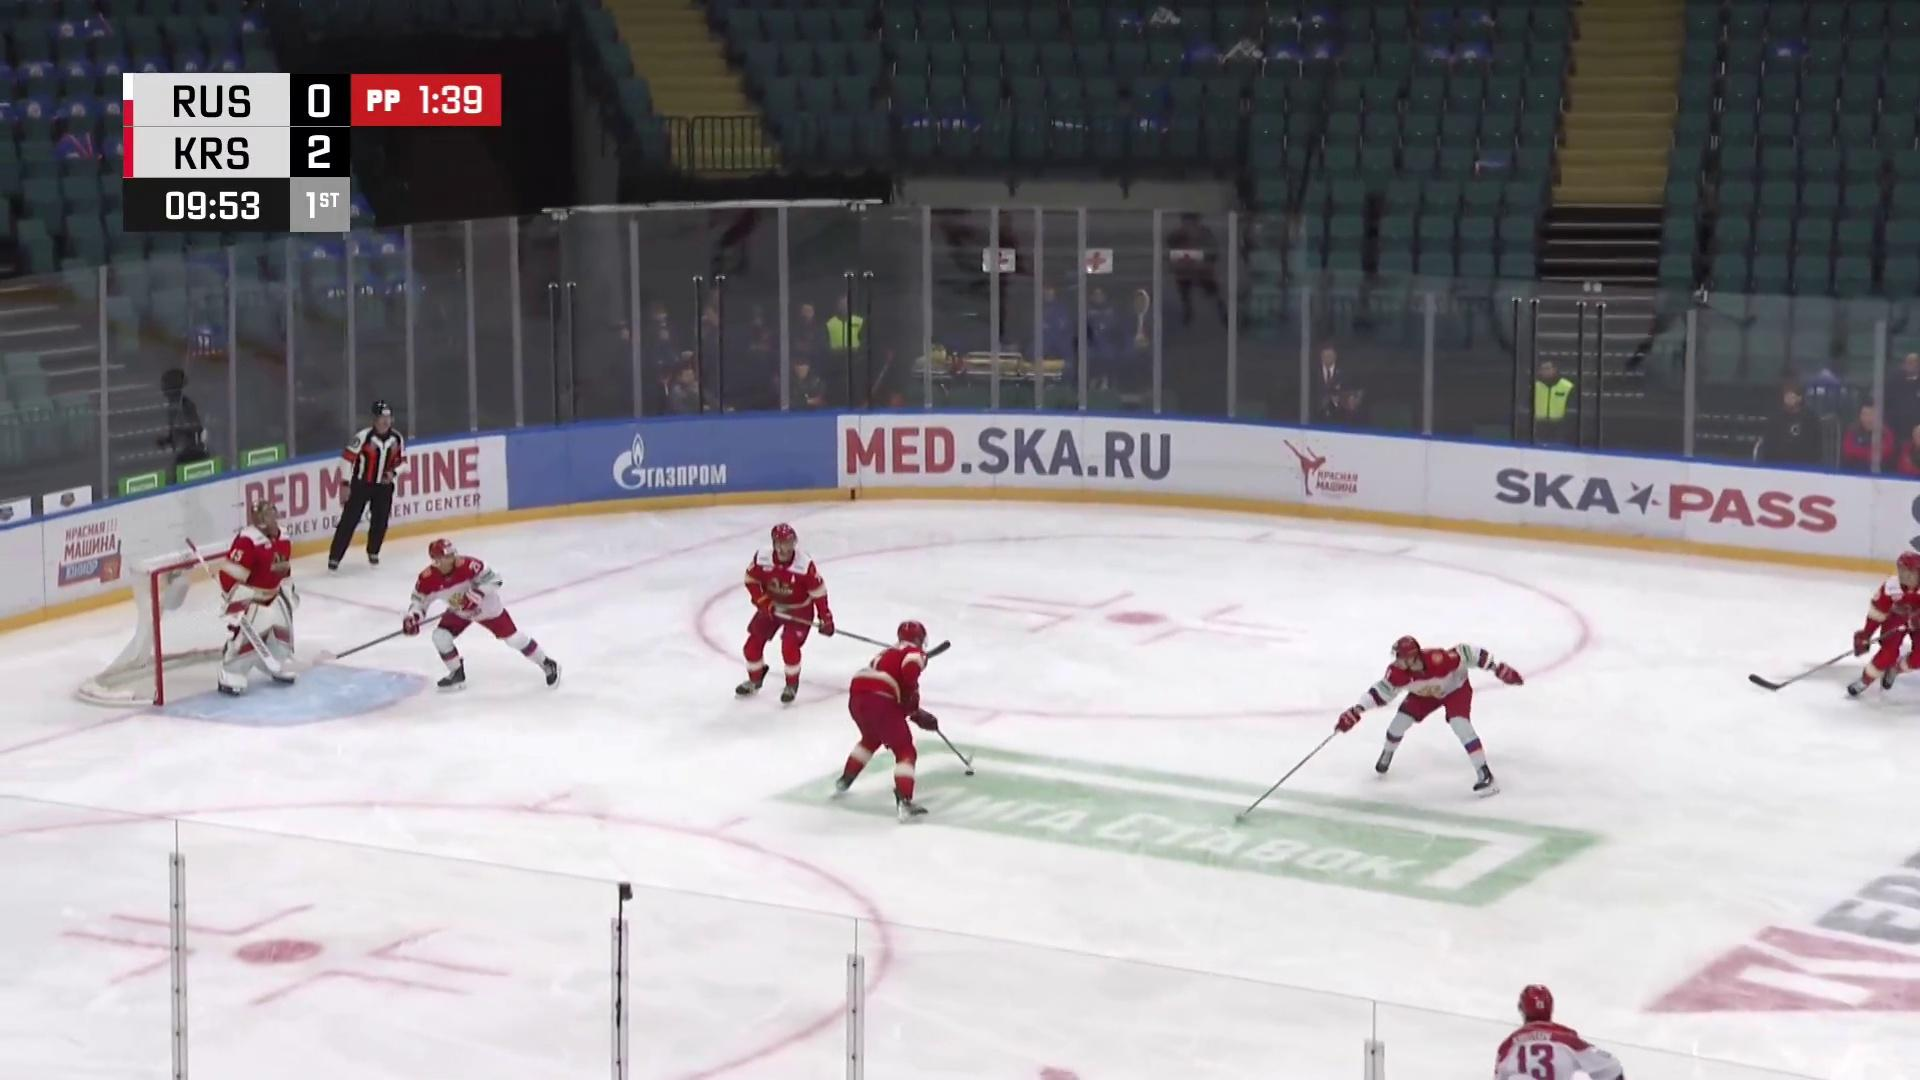ball: (961, 767, 977, 777)
